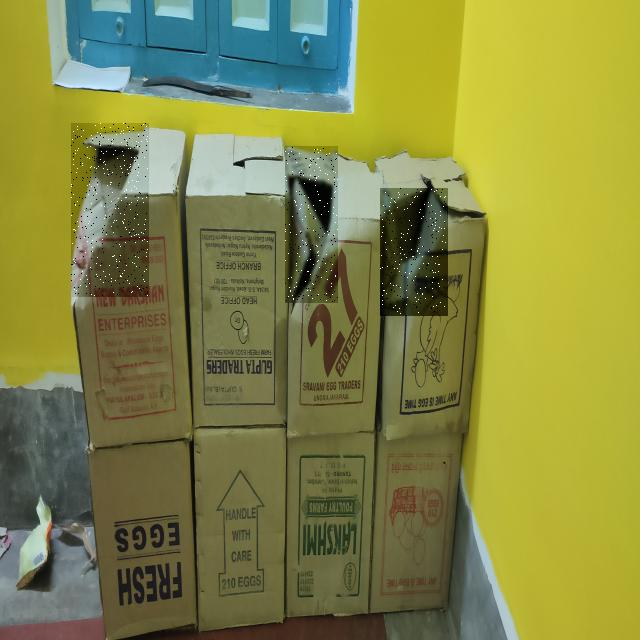squeeze: (71, 124, 148, 296), (380, 189, 446, 315)
tear: (285, 148, 338, 303)
